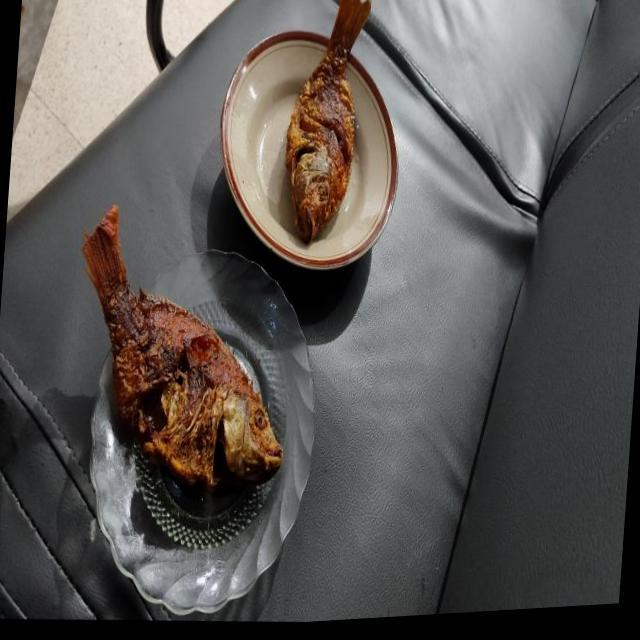ikan_mujair: (82, 205, 282, 491), (286, 0, 370, 242)
